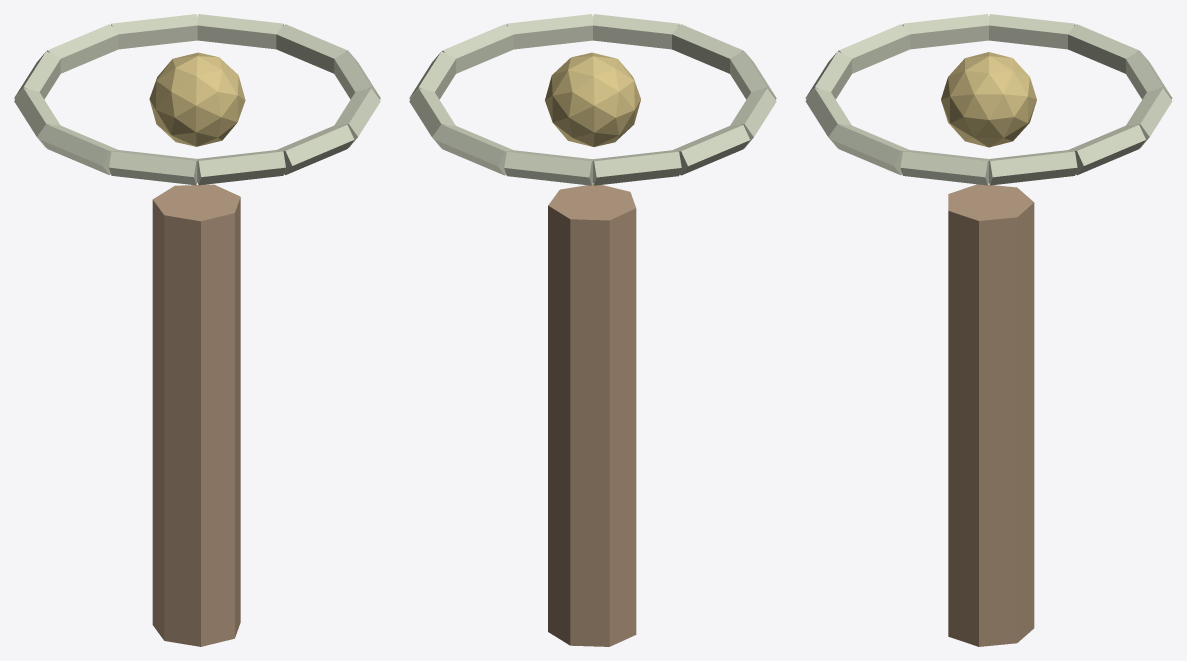
File: web_anchor_ring.glb
3 views of the same model, side by side, from view 1: azimuth 30°, elevation 25°; view 2: azimuth 150°, elevation 25°; view 3: azimuth 270°, elevation 25° (orthographic).
Parts seen in each view (by area): view 1: Post, Socket_socket, Ring_3, Ring_4, Ring_9, Ring_10, Ring_2, Ring_5, Ring_8, Ring_11, Ring_1, Ring_6 (+2 smaller); view 2: Post, Socket_socket, Ring_7, Ring_8, Ring_1, Ring_2, Ring_6, Ring_9, Ring_0, Ring_3, Ring_5, Ring_10 (+2 smaller); view 3: Post, Socket_socket, Ring_0, Ring_11, Ring_5, Ring_6, Ring_1, Ring_10, Ring_4, Ring_7, Ring_2, Ring_9 (+2 smaller).
Boxes of the visible parts, x1,y1,x2,y2 form: Post: [152, 184, 240, 646]; Socket_socket: [149, 52, 245, 146]; Ring_3: [197, 150, 285, 185]; Ring_4: [109, 150, 197, 185]; Ring_9: [111, 14, 197, 49]; Ring_10: [197, 14, 283, 49]; Ring_2: [277, 124, 354, 175]; Ring_5: [40, 124, 117, 175]; Ring_8: [47, 24, 118, 73]; Ring_11: [276, 24, 347, 73]; Ring_1: [334, 88, 380, 147]; Ring_6: [14, 88, 60, 147]; Post: [548, 184, 636, 646]; Socket_socket: [545, 52, 640, 146]; Ring_7: [593, 150, 681, 185]; Ring_8: [504, 150, 592, 185]; Ring_1: [506, 14, 592, 49]; Ring_2: [593, 14, 679, 49]; Ring_6: [672, 125, 749, 175]; Ring_9: [436, 125, 513, 175]; Ring_0: [442, 24, 513, 73]; Ring_3: [672, 24, 743, 73]; Ring_5: [730, 88, 776, 148]; Ring_10: [409, 88, 455, 148]; Post: [948, 184, 1034, 646]; Socket_socket: [941, 52, 1036, 147]; Ring_0: [900, 150, 988, 185]; Ring_11: [989, 150, 1077, 185]; Ring_5: [902, 14, 988, 49]; Ring_6: [989, 14, 1075, 49]; Ring_1: [832, 124, 908, 175]; Ring_10: [1069, 124, 1145, 175]; Ring_4: [838, 24, 909, 73]; Ring_7: [1068, 24, 1139, 73]; Ring_2: [805, 88, 851, 147]; Ring_9: [1126, 88, 1172, 147].
Size of the model in its own units: 0.6483 by 1.12 by 0.6483.
